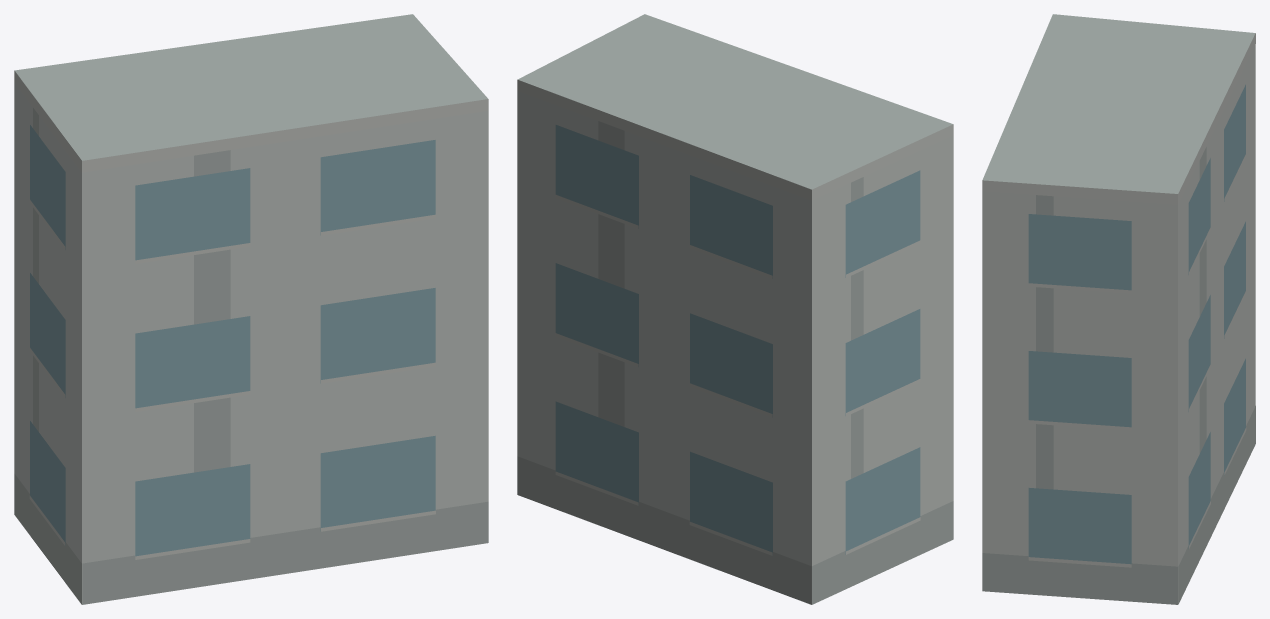
File: survey-upis-32788986.glb
3 renders of one model, left to right at view 1: azimuth 30°, elevation 25°; view 2: azimuth 150°, elevation 25°; view 3: azimuth 270°, elevation 25°, orthographic. The views are drawn at different scales.
Parts seen in each view (by area): view 1: survey-upis-32788986.tmp; view 2: survey-upis-32788986.tmp; view 3: survey-upis-32788986.tmp.
Boxes of the visible parts, x1,y1,x2,y2 form: survey-upis-32788986.tmp: (14,14,488,604); survey-upis-32788986.tmp: (517,14,953,604); survey-upis-32788986.tmp: (982,14,1255,604).
Size of the model in its own units: 8.61 by 9.15 by 5.53.
